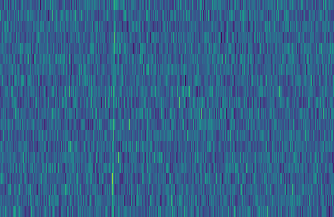signal: (106, 0, 118, 217)
